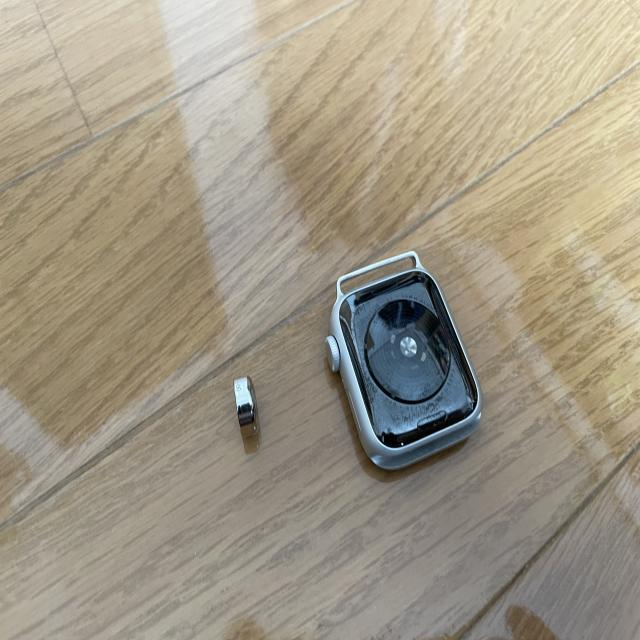COIN: (232, 376, 260, 438)
